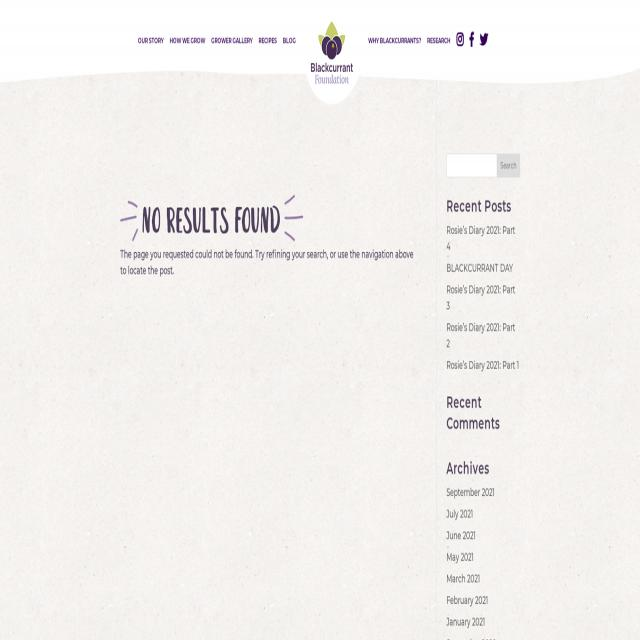button: (302, 8, 362, 106), (367, 30, 424, 57), (208, 28, 255, 57), (167, 28, 207, 58), (137, 26, 166, 58), (424, 29, 454, 59), (280, 27, 300, 58), (496, 153, 520, 178), (256, 30, 279, 56), (478, 29, 490, 48), (468, 29, 478, 50), (456, 30, 466, 49)
field: (447, 153, 497, 178)
